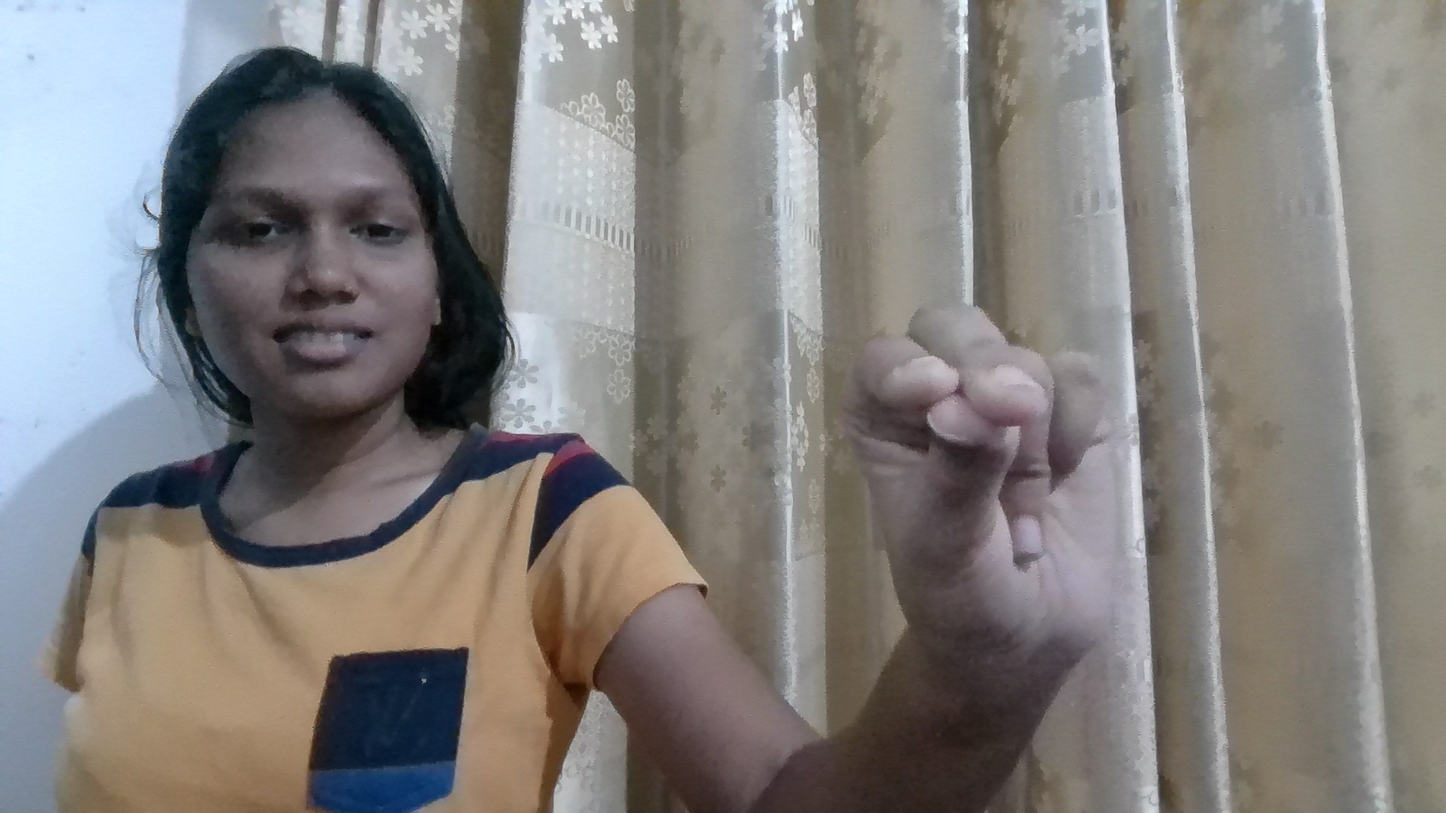No: (659, 234, 1260, 724)
